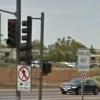Traffic light: (7, 11, 34, 67)
